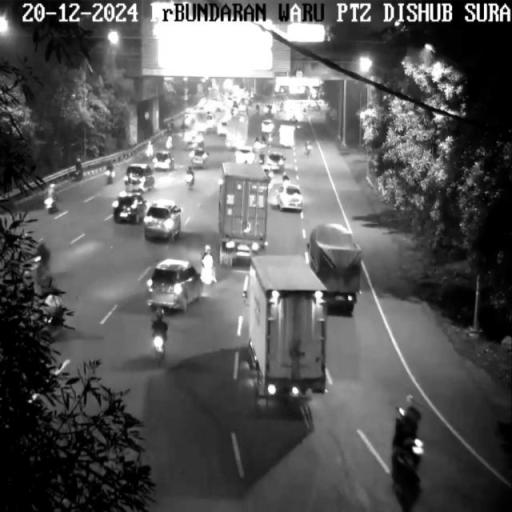car: (148, 257, 199, 308), (142, 199, 182, 242), (112, 194, 144, 224)
motorcycle: (394, 408, 423, 469), (150, 323, 170, 360), (200, 262, 219, 288)
truck: (248, 252, 325, 396), (220, 162, 267, 262), (311, 223, 363, 312)
